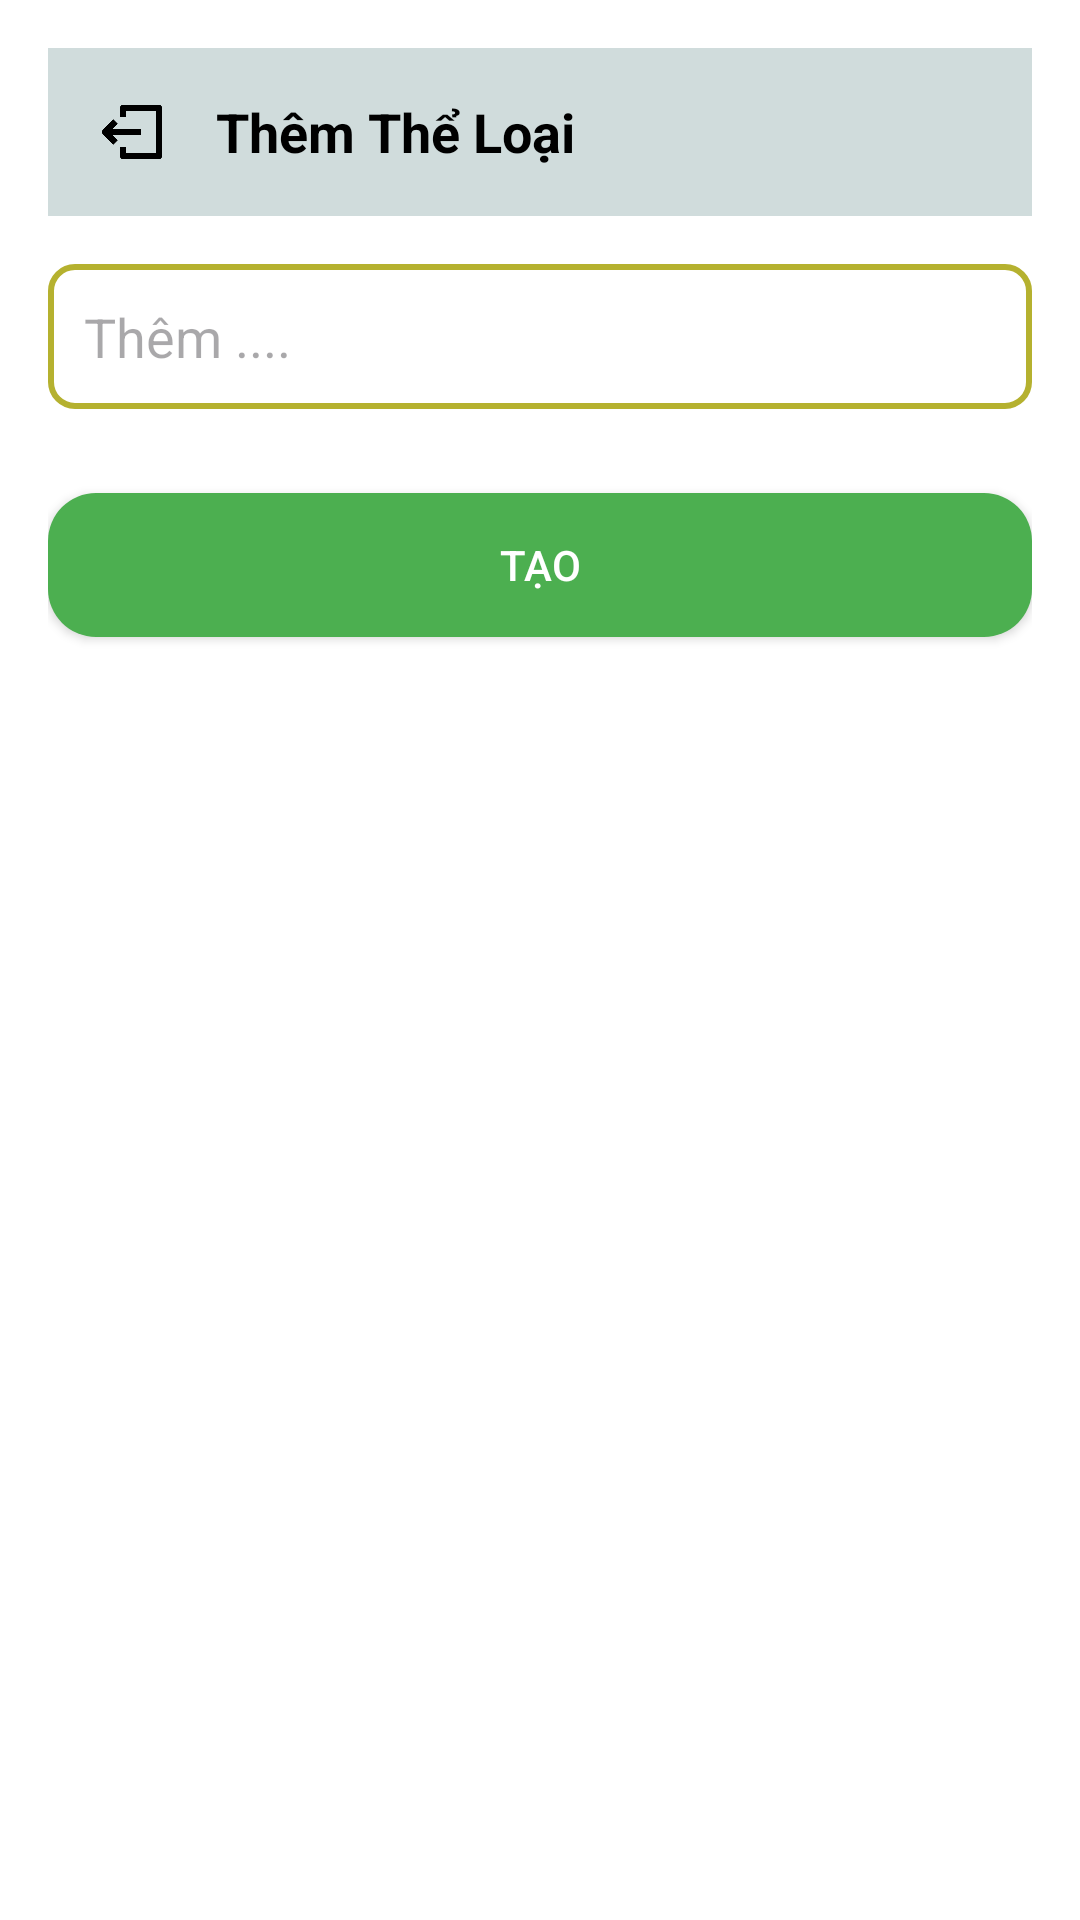

Where to tap for icons on this 1080x1920 app screen, as (x,y):
imgexit: (132,132)
